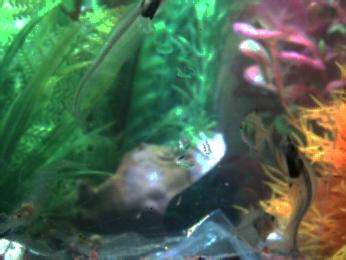X-ray fish: (223, 206, 279, 250), (1, 232, 68, 260), (239, 108, 274, 153)
glassfish: (69, 1, 165, 119), (277, 133, 319, 260)
siberian prawn: (1, 157, 93, 234), (47, 226, 165, 257)
